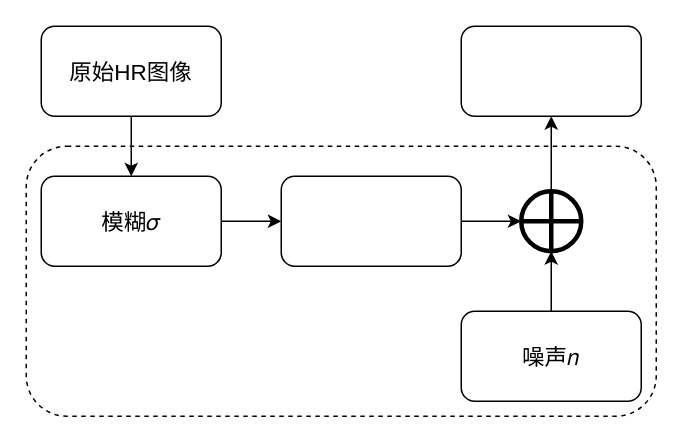
Image size: 683x443. Some labels were removed from this diagram. Each missing label, with the centre of its shape:
"下采样" goes at (370,220).
"模拟LR图像" goes at (550,70).
